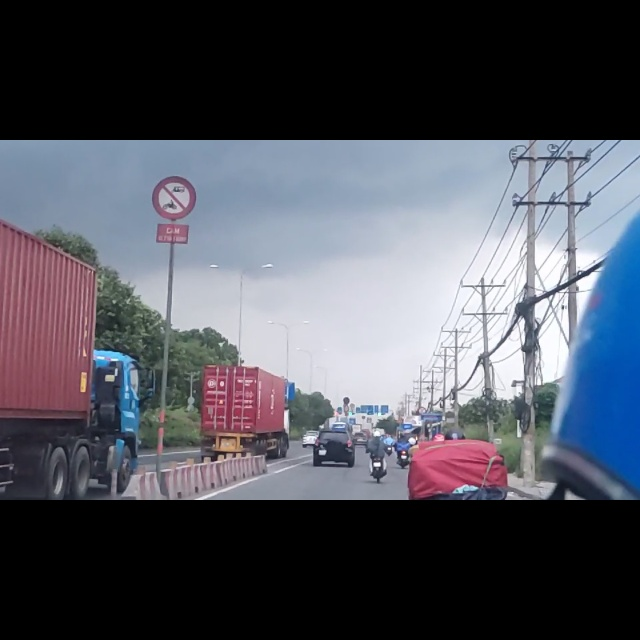bien_chi_dan: (151, 63, 197, 142)
